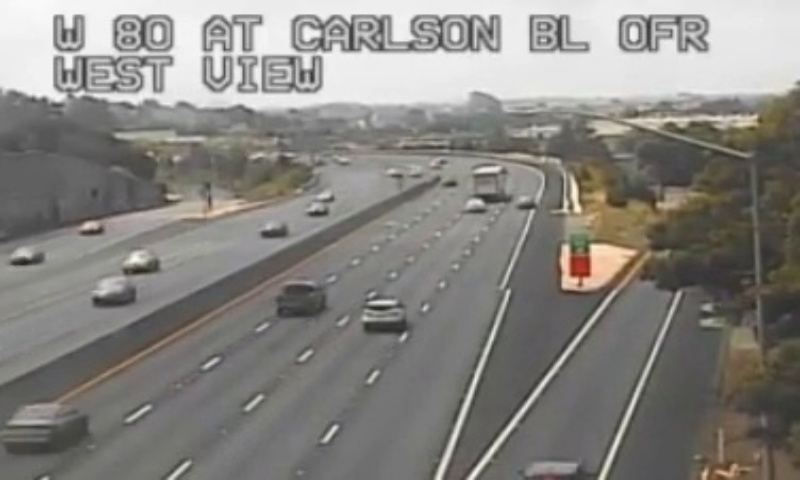car: (2, 402, 87, 451), (274, 281, 323, 312), (361, 299, 404, 326)
